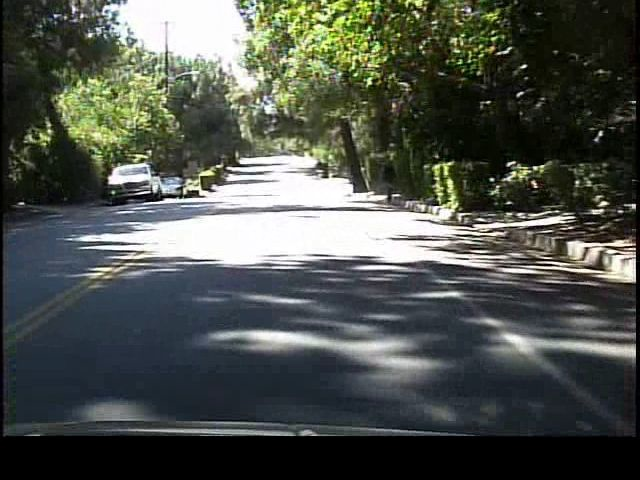person: (381, 155, 400, 208)
